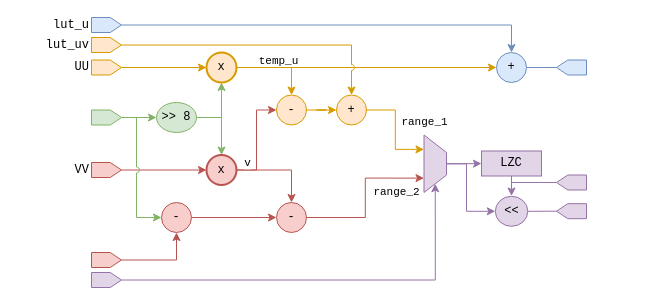
Image size: 670x306. Some labels were removed from this diagram. Here are the shapes that lost their labels. From the top down, the centre of each, then its label:
point 571,67: out_u
point 106,117: in_range
point 571,182: out_d
point 571,211: range_CDF
point 106,260: lut_v
point 106,280: COMP_mux_1
